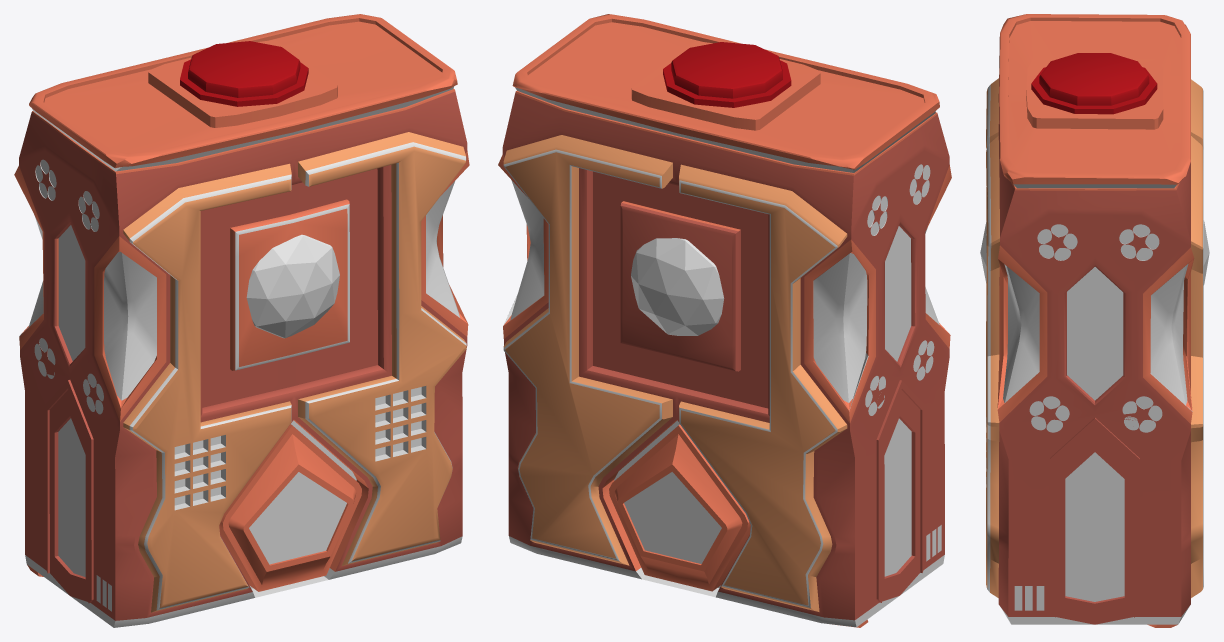
File: RedPedestal.fbx
The picture shows the model from 3 angles, left to right: view 1: azimuth 30°, elevation 25°; view 2: azimuth 150°, elevation 25°; view 3: azimuth 270°, elevation 25°; orthographic projection. The views are drawn at different scales.
Visible parts, largest first — view 1: Pedestal; view 2: Pedestal; view 3: Pedestal.
Boxes of the visible parts, x1,y1,x2,y2 form: Pedestal: (14, 14, 469, 627); Pedestal: (498, 14, 951, 627); Pedestal: (980, 14, 1209, 627).
Size of the model in its own units: 56.84 by 75.48 by 33.17.
